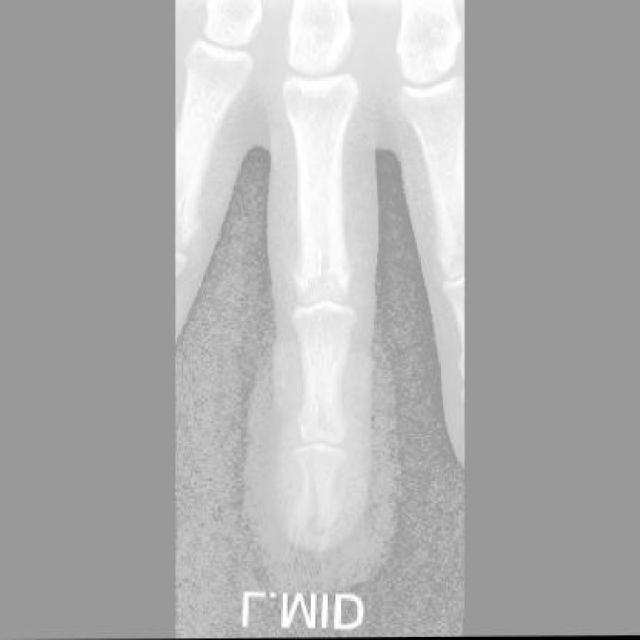Fracture: (285, 454, 344, 545)
